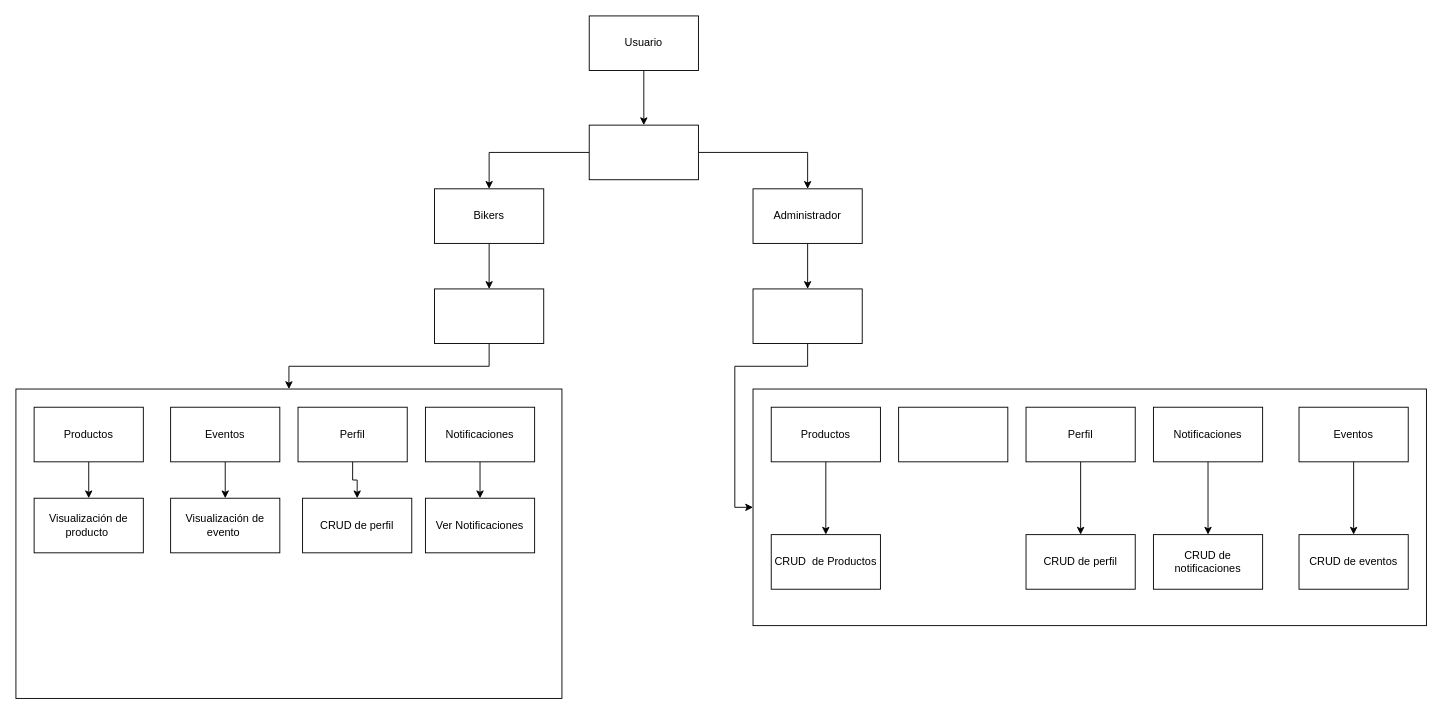
The diagram is 1442 pixels wide and 714 high, and some of its shapes have lost their labels. The shapes that lost their labels are listed below. From the top down, each one's box as (x1, y1, x2, y2) in pixels, then its label:
(588, 124, 698, 180): Login
(434, 288, 544, 344): Home
(752, 288, 862, 344): Dashboard
(898, 406, 1008, 462): Reportes
